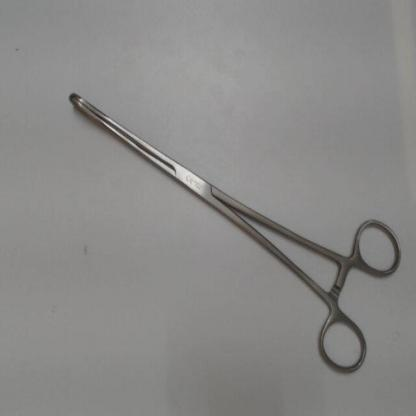Sponge Forceps: (56, 87, 407, 385)
